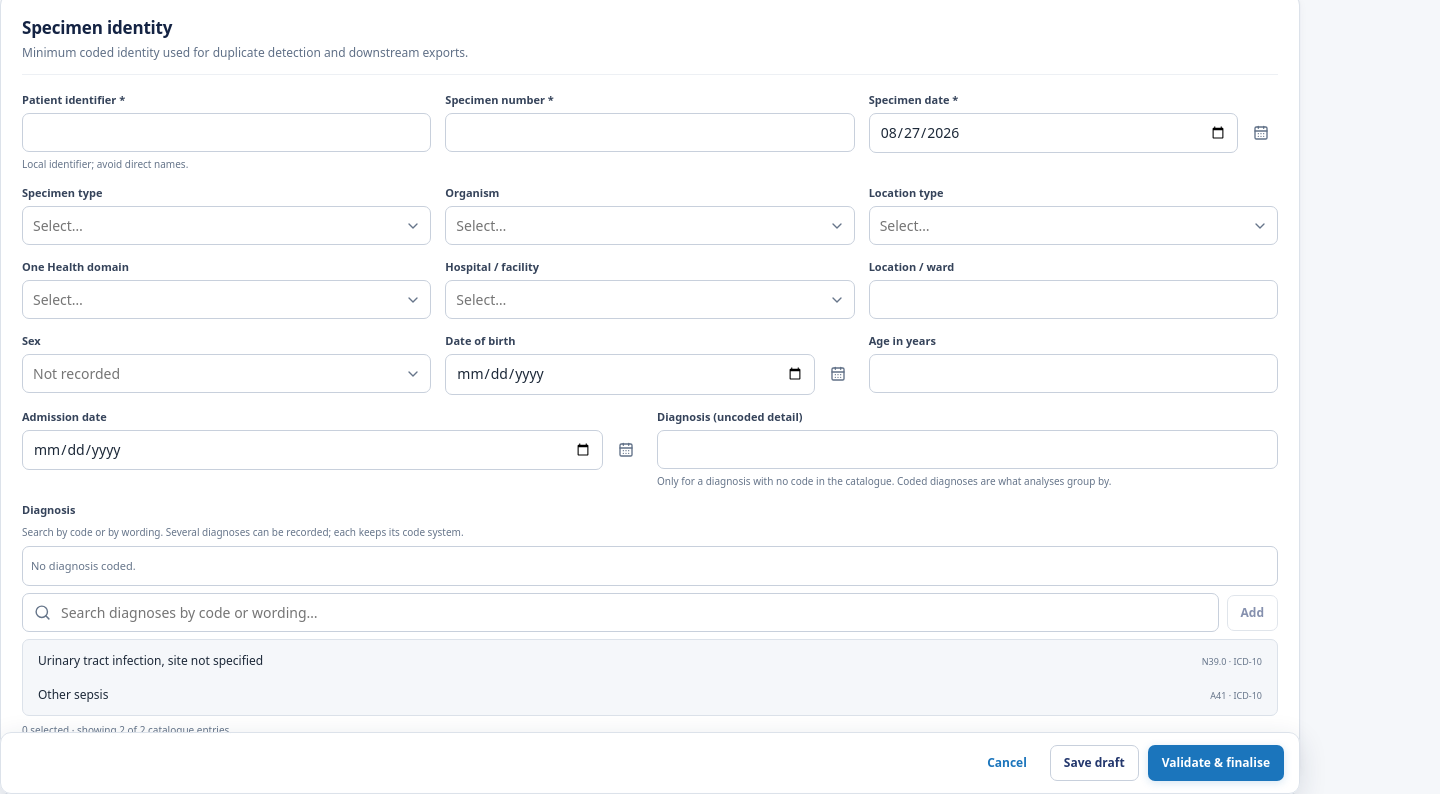
Test case: IsolateEditor panel-driven AST entry › pre-loads only essential panel members and offers the optional ones as add-ons
Type "URINE" into the dropdown labelled "Specimen type". click: (227, 226)
box: [22,206,431,245]
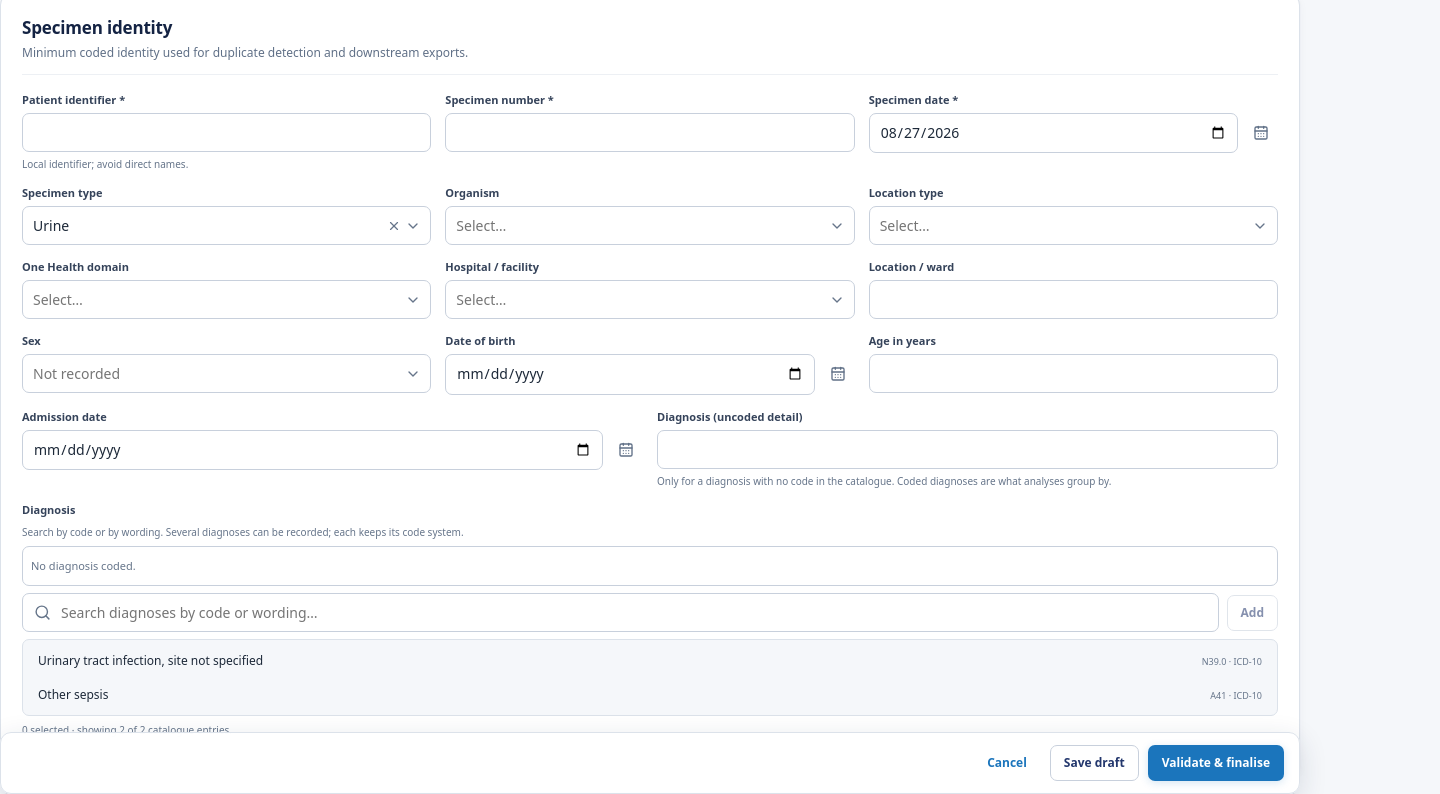
Type "ECO" into the dropdown labelled "Organism". click: (650, 226)
box: [445,206,855,245]
(page scrolled)
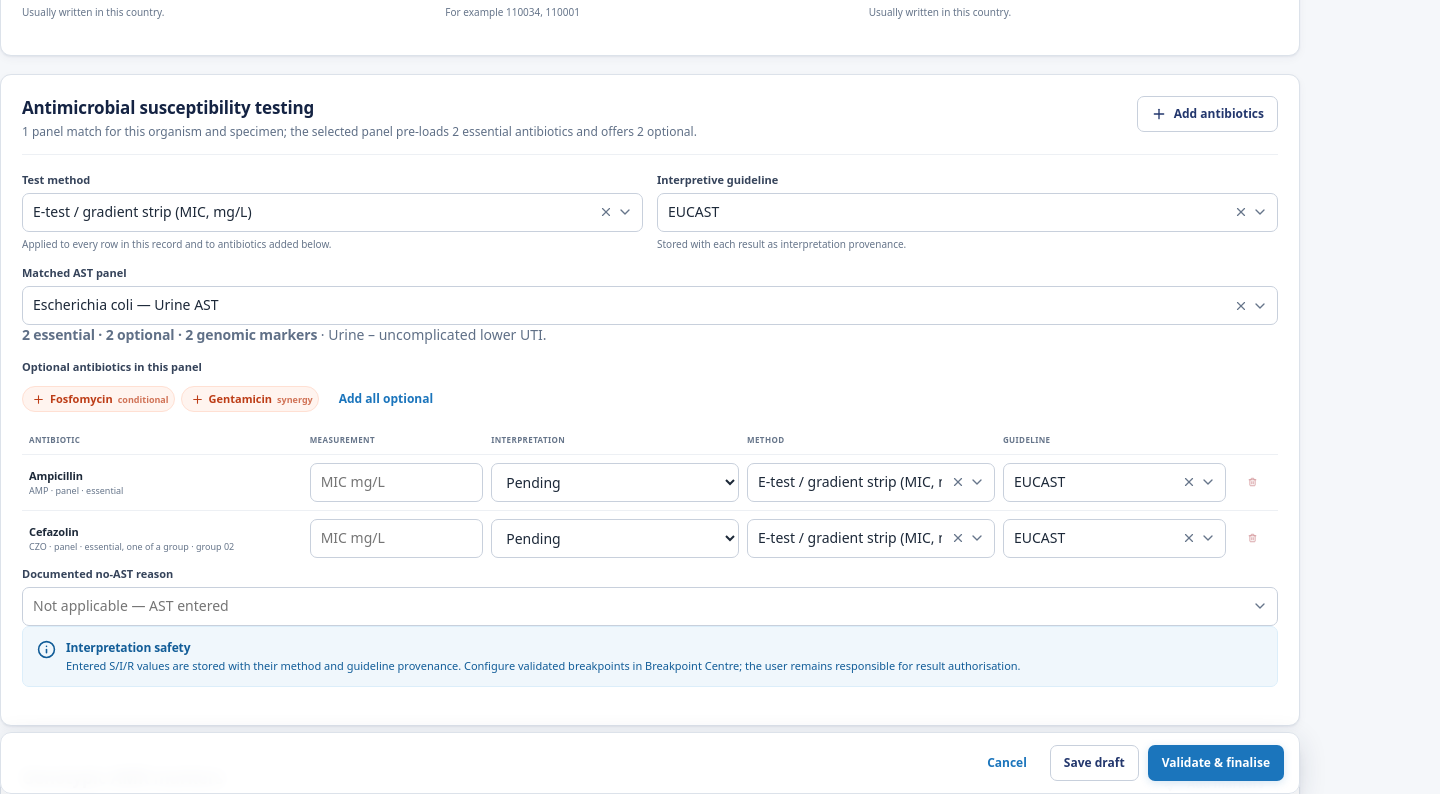
Now the field named "AMP measurement" is shown, box [310,463,483,502]
Now the field named "CZO measurement" is shown, box [310,519,483,558]
Click the button "Fosfomycin conditional". click: click(98, 399)
box: [22,386,175,412]
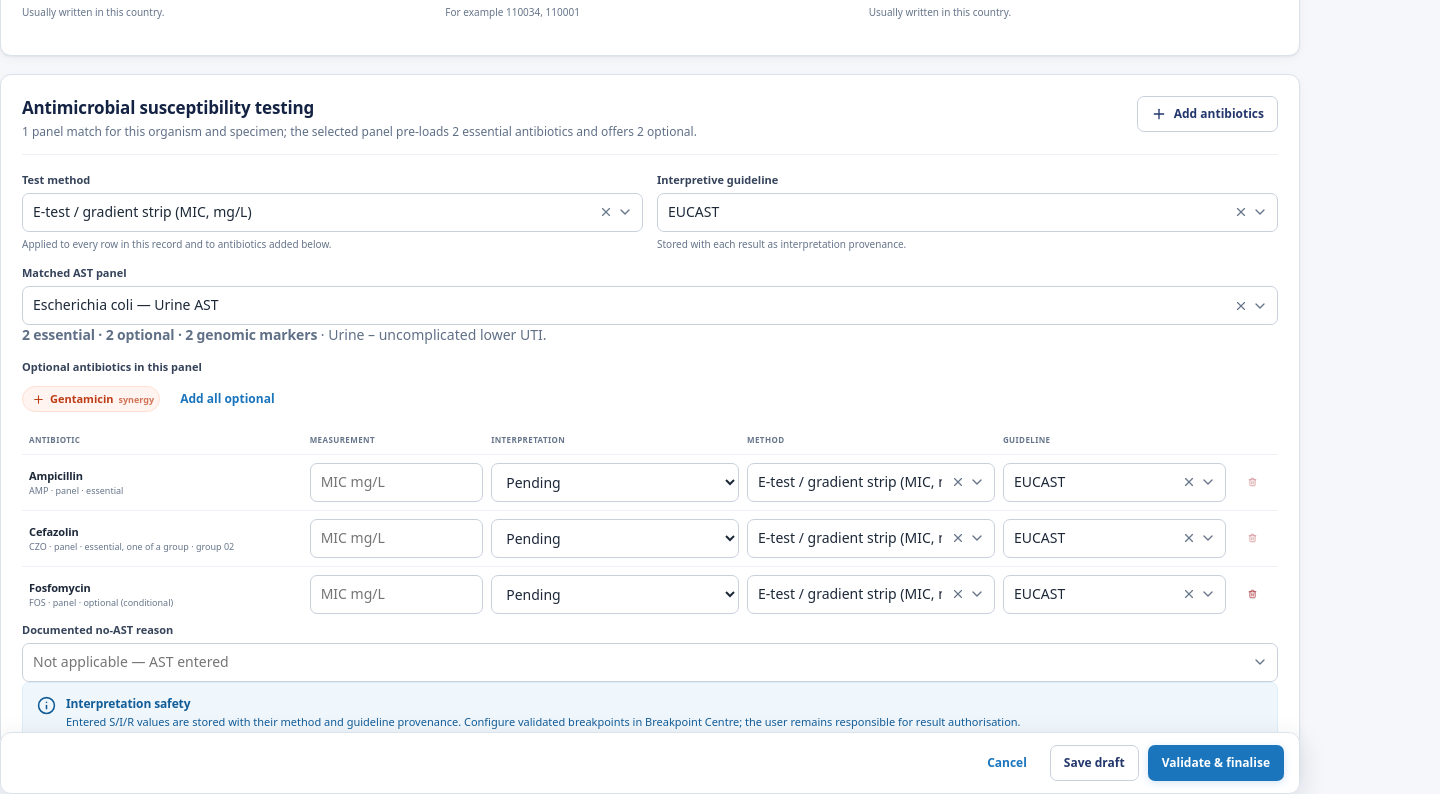
Now the field named "FOS measurement" is shown, box [310,575,483,614]
